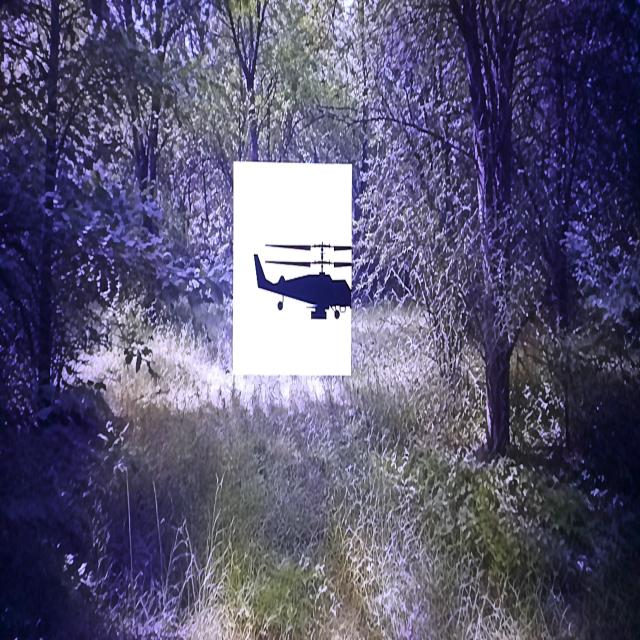Ka-52 Enemy: (255, 244, 351, 318)
